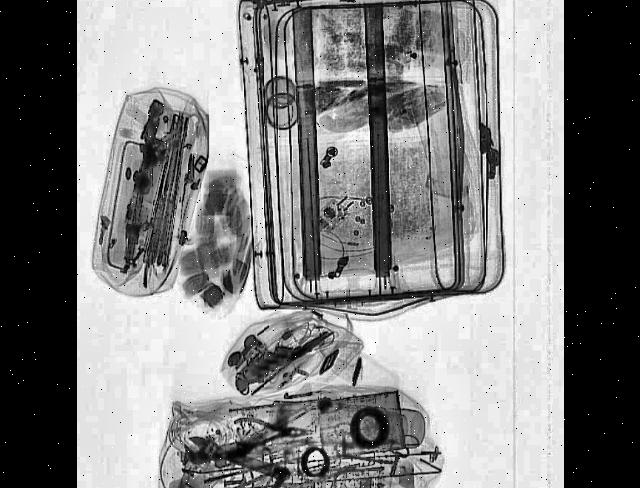Pliers: (233, 416, 315, 450)
Wrench: (181, 432, 290, 488)
